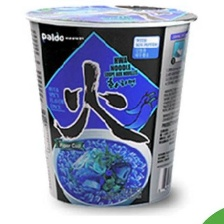paper_cup: (18, 0, 202, 216)
